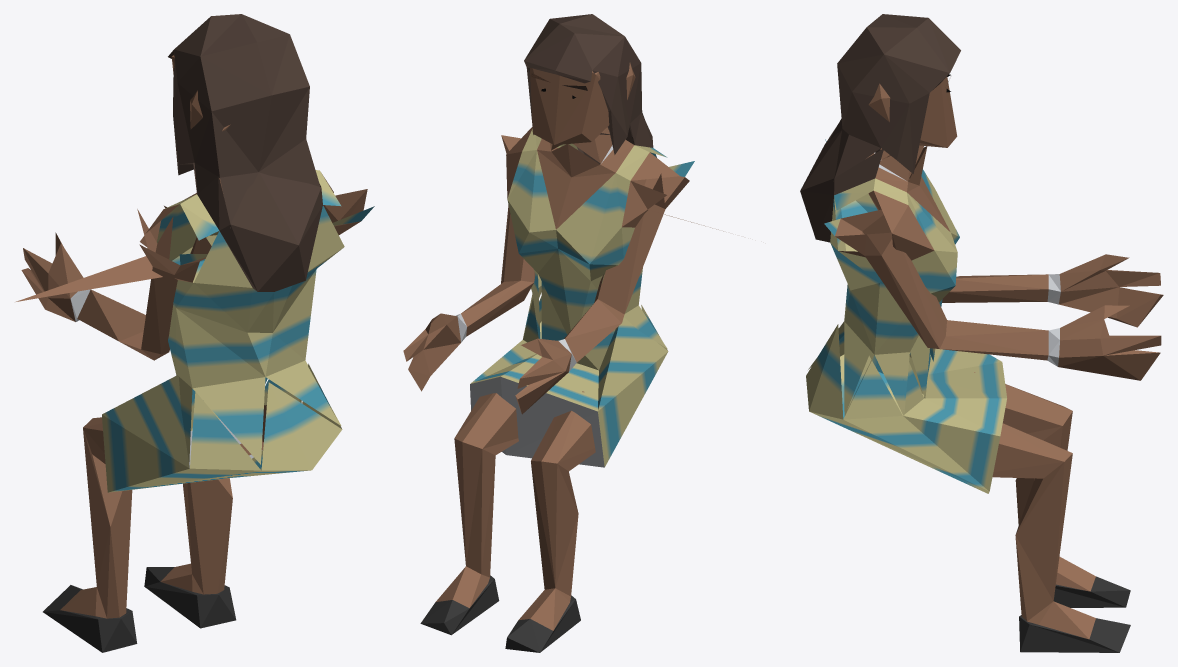
Rendered from Seated_Auntwiththecardigan.obj.
3 views of the same model, side by side, from view 1: azimuth 30°, elevation 25°; view 2: azimuth 150°, elevation 25°; view 3: azimuth 270°, elevation 25° (orthographic). The views are drawn at different scales.
Visible parts, largest first — view 1: Seated_Auntwiththecardigan; view 2: Seated_Auntwiththecardigan; view 3: Seated_Auntwiththecardigan.
Boxes of the visible parts, x1,y1,x2,y2 form: Seated_Auntwiththecardigan: (16,14,374,652); Seated_Auntwiththecardigan: (403,14,723,652); Seated_Auntwiththecardigan: (800,14,1163,652).
Bounding box in the file's own units: 0.8001 × 1.48 × 0.8128.
1 material, 1 textured.
